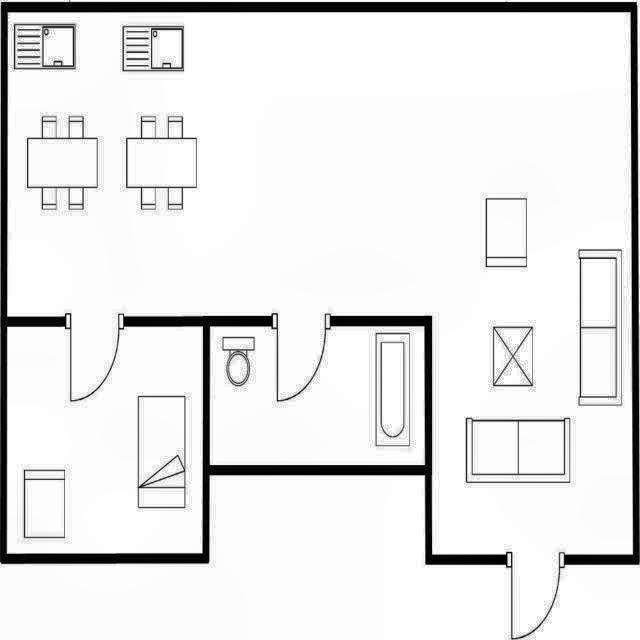room: (7, 11, 633, 555), (7, 326, 202, 554), (210, 327, 425, 463)
